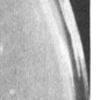white: (9, 89, 15, 97), (0, 42, 3, 57)
